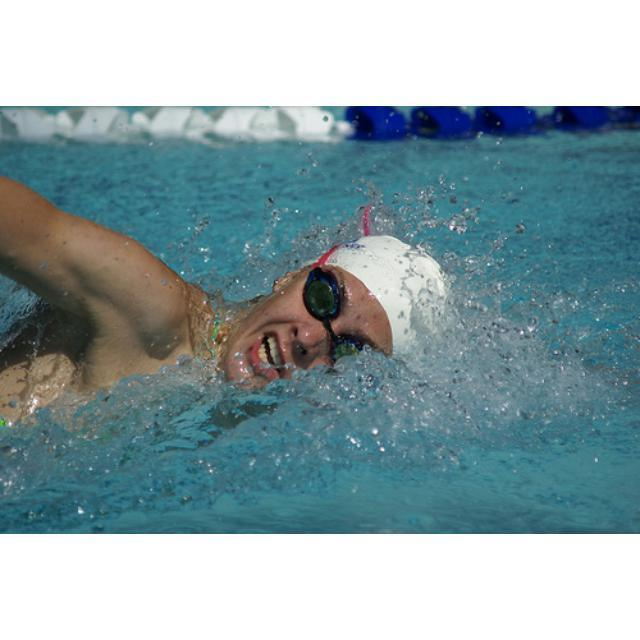human: (1, 161, 451, 434)
